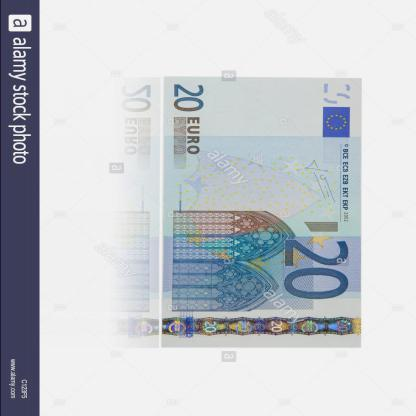euro_banknote: (129, 113, 398, 313)
